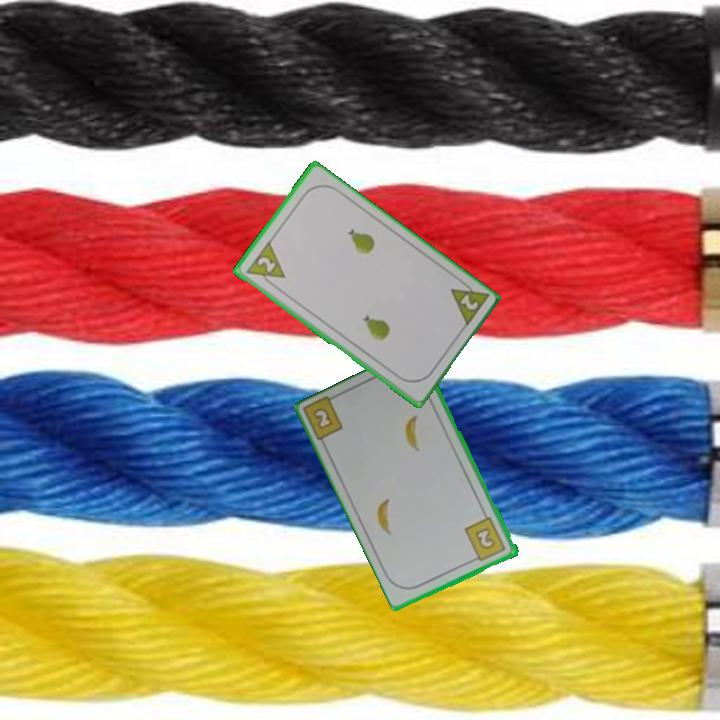2b: (461, 514, 509, 565), (309, 404, 336, 433)
2p: (446, 275, 491, 330), (242, 238, 288, 291)
